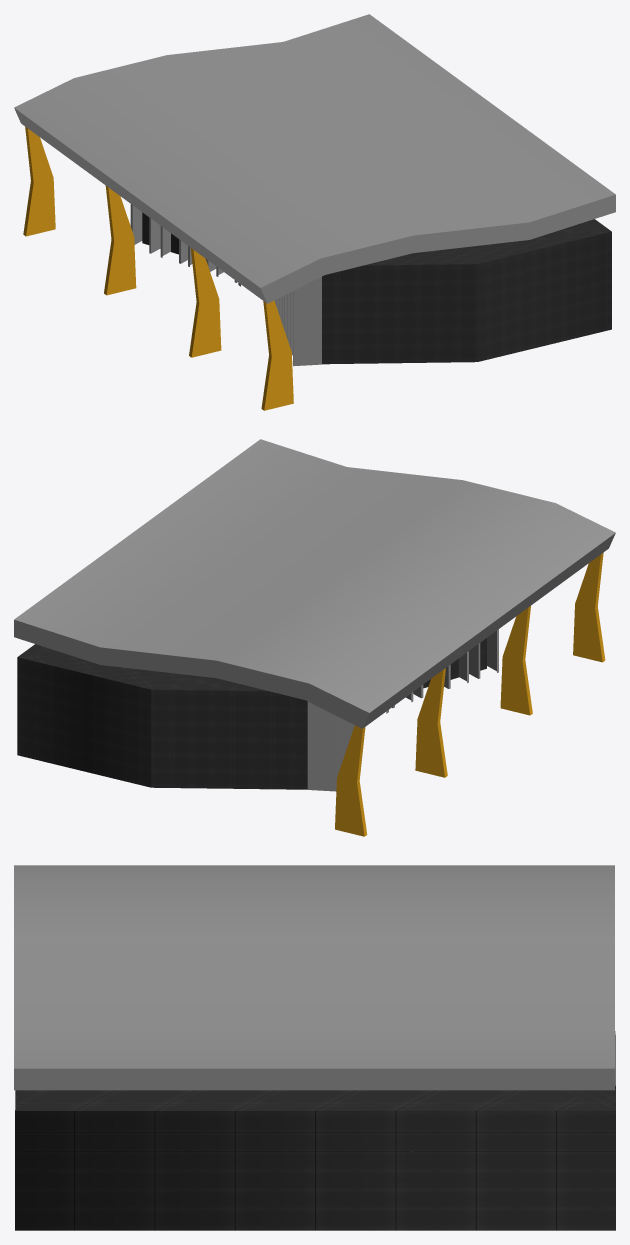
Rendered from assembleia.FBX.
3 views of the same model, one above another, from view 1: azimuth 30°, elevation 25°; view 2: azimuth 150°, elevation 25°; view 3: azimuth 270°, elevation 25° (orthographic). The views are drawn at different scales.
Parts seen in each view (by area): view 1: assembleia; view 2: assembleia; view 3: assembleia.
Boxes of the visible parts, left/top/right/bottom form: assembleia: left=14, top=14, right=615, bottom=410; assembleia: left=14, top=439, right=615, bottom=836; assembleia: left=14, top=865, right=615, bottom=1230.
Bounding box in the file's own units: 69.32 × 26.63 × 83.4.
